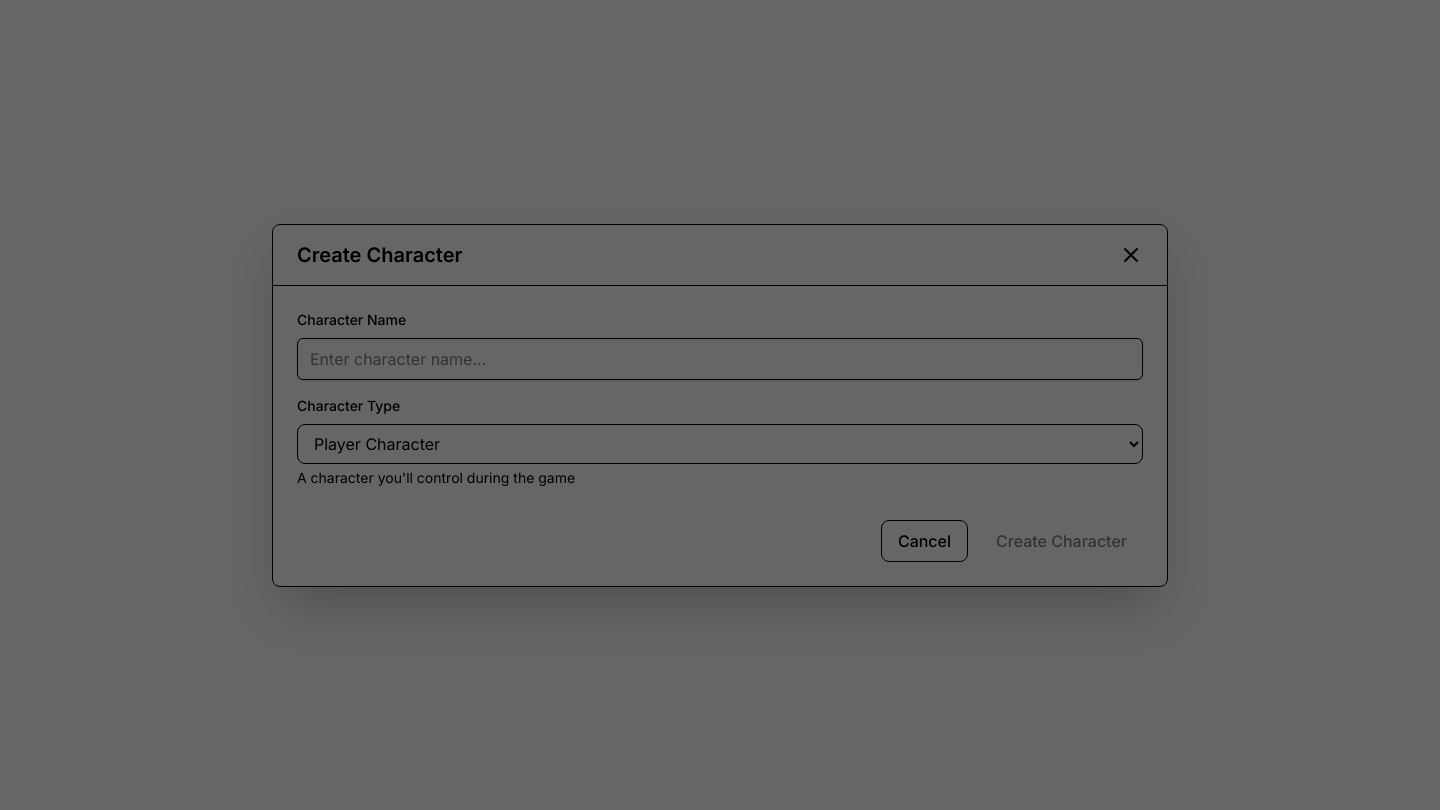
Test: CreateCharacterModal › Player Role - Basic Functionality › submit button is enabled when name is provided
The image size is (1440, 810).
Type "My Test Character" into the field labelled "Character Name" at (720, 358), box [297,338,1143,380]
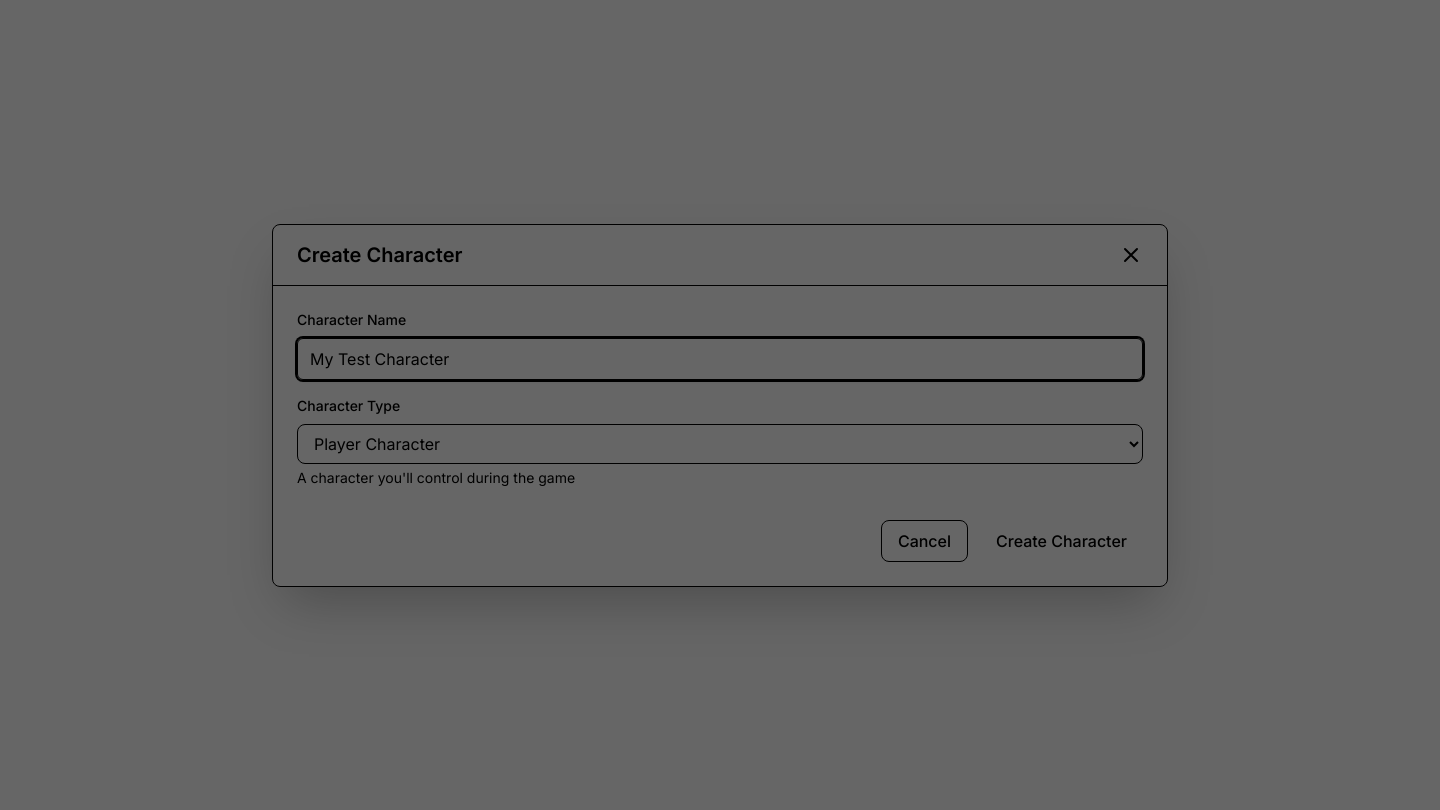
Now the button with test id "character-submit-button" is enabled, box [980,520,1143,562]
